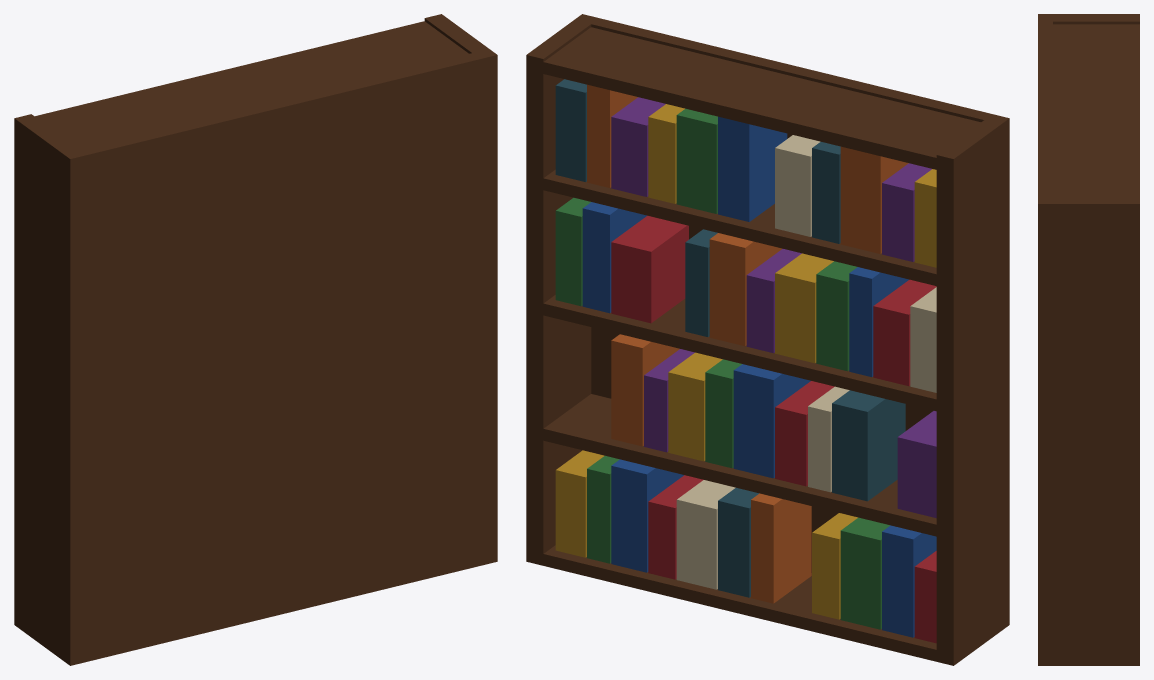
The model's file is ld-bookshelf.glb.
The picture shows the model from 3 angles, left to right: view 1: azimuth 30°, elevation 25°; view 2: azimuth 150°, elevation 25°; view 3: azimuth 270°, elevation 25°; orthographic projection. The views are drawn at different scales.
Parts seen in each view (by area): view 1: box-prop; view 2: box-prop; view 3: box-prop.
Part boxes in pixels (bbox=[...]): box-prop: bbox=[14, 14, 497, 665]; box-prop: bbox=[526, 14, 1009, 665]; box-prop: bbox=[1038, 14, 1139, 665].
Size of the model in its own units: 3 by 3.4 by 0.68.
